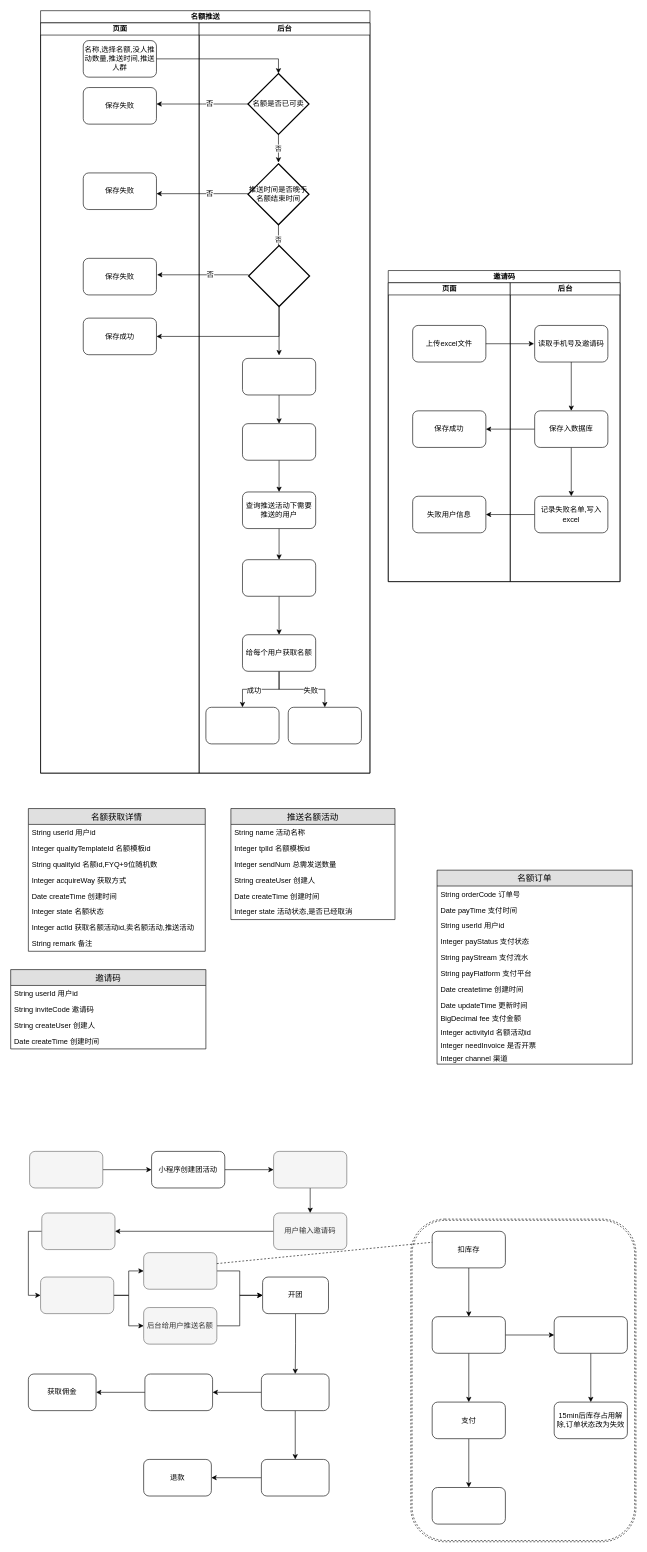
This 647x1552 diagram has some shape labels left out. The centre of each missing label's shape, as x and y in pixels:
"保存订单,更新订单状态,保存名额获取详情" belongs at point 468,1505.
"创建订单" belongs at point 468,1334.
"判断推送是否已经取消" belongs at point 279,441.
"后台job根据时间来查询时间已到的推送" belongs at point 279,376.
"后台创建卖名额活动" belongs at point 310,1169.
"后台创建名额" belongs at point 66,1169.
"后台校验邀请码" belongs at point 78,1231.
"拼团失败" belongs at point 295,1477.
"拼团成功" belongs at point 178,1392.
"推送人数是否大于10000" belongs at point 279,276.
"未支付" belongs at point 590,1334.
"校验名额库存" belongs at point 279,577.
"用户下单从名额活动购买名额" belongs at point 180,1270.
"用户分享,邀请参团" belongs at point 295,1392.
"记录推送失败原因" belongs at point 324,725.
"进入分拥宝" belongs at point 77,1295.
"通知小程序创建一个团" belongs at point 242,725.
